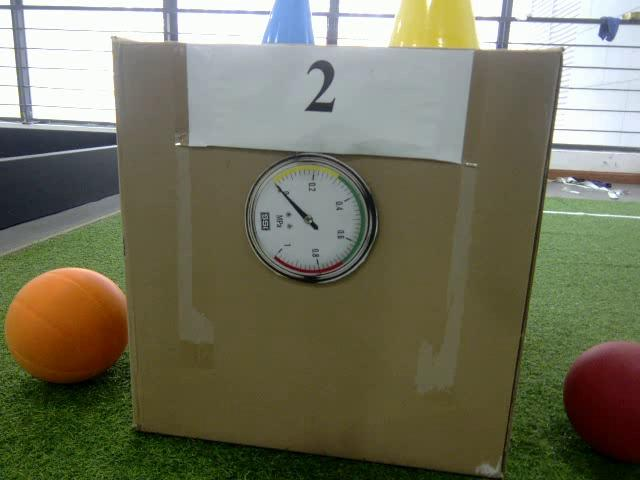2: (302, 60, 338, 114)
Dashboard: (247, 155, 376, 283)
blue_barrel: (260, 0, 315, 45)
orange_ball: (8, 267, 128, 382)
red_ball: (559, 338, 640, 464)
ssi: (260, 212, 270, 230)
yellow_barrel: (388, 0, 481, 54)
